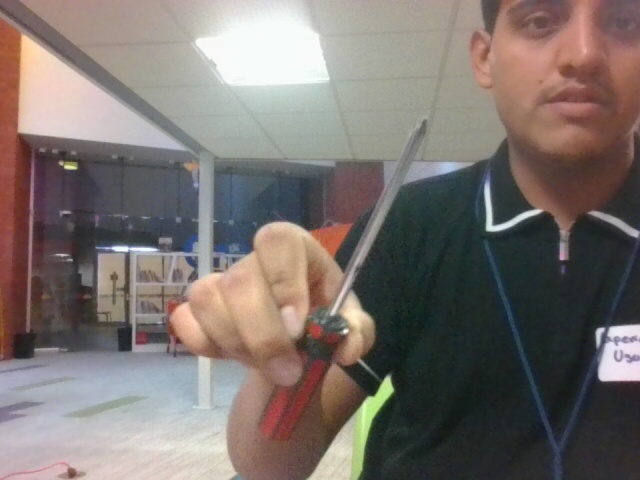destornillador: (261, 117, 429, 439)
